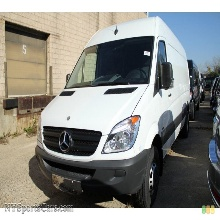no damage: (36, 16, 190, 207)
